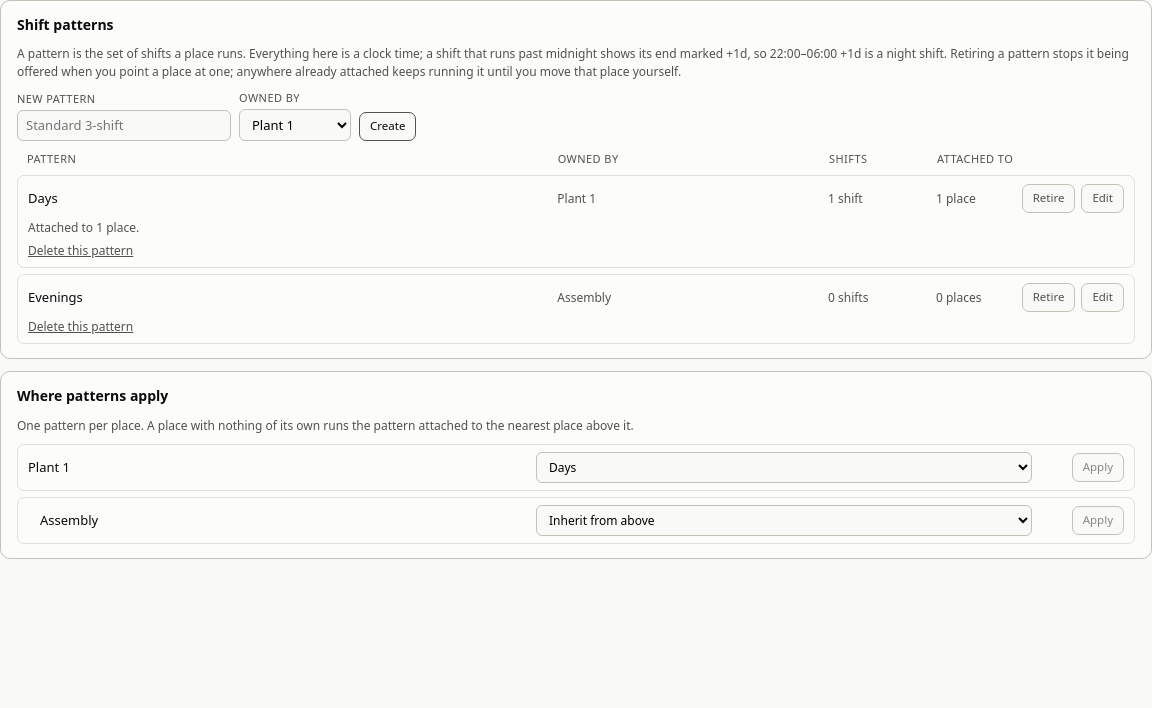
Test case: ShiftsPanel — breaks are a table, and an existing one is edited in place (R-250) › S23 ⭐ the breaks table draws a header once per shift, then Break/Clock/Length per break
Click the button "Edit" in the row of "Days" at (1103, 198), box [1081,184,1124,213]
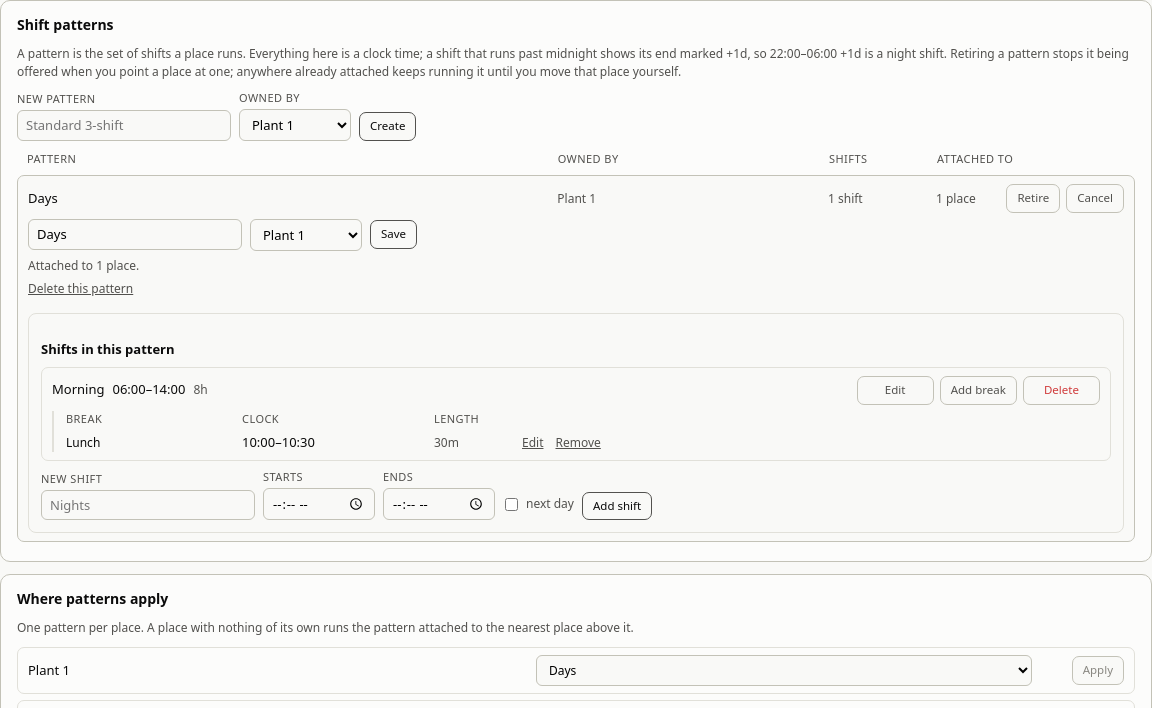
Expected: the text "Break" is shown, [66,411,102,426]
Expected: the text "Clock" is shown, [242,411,279,426]
Expected: the text "Length" is shown, [434,411,479,426]
